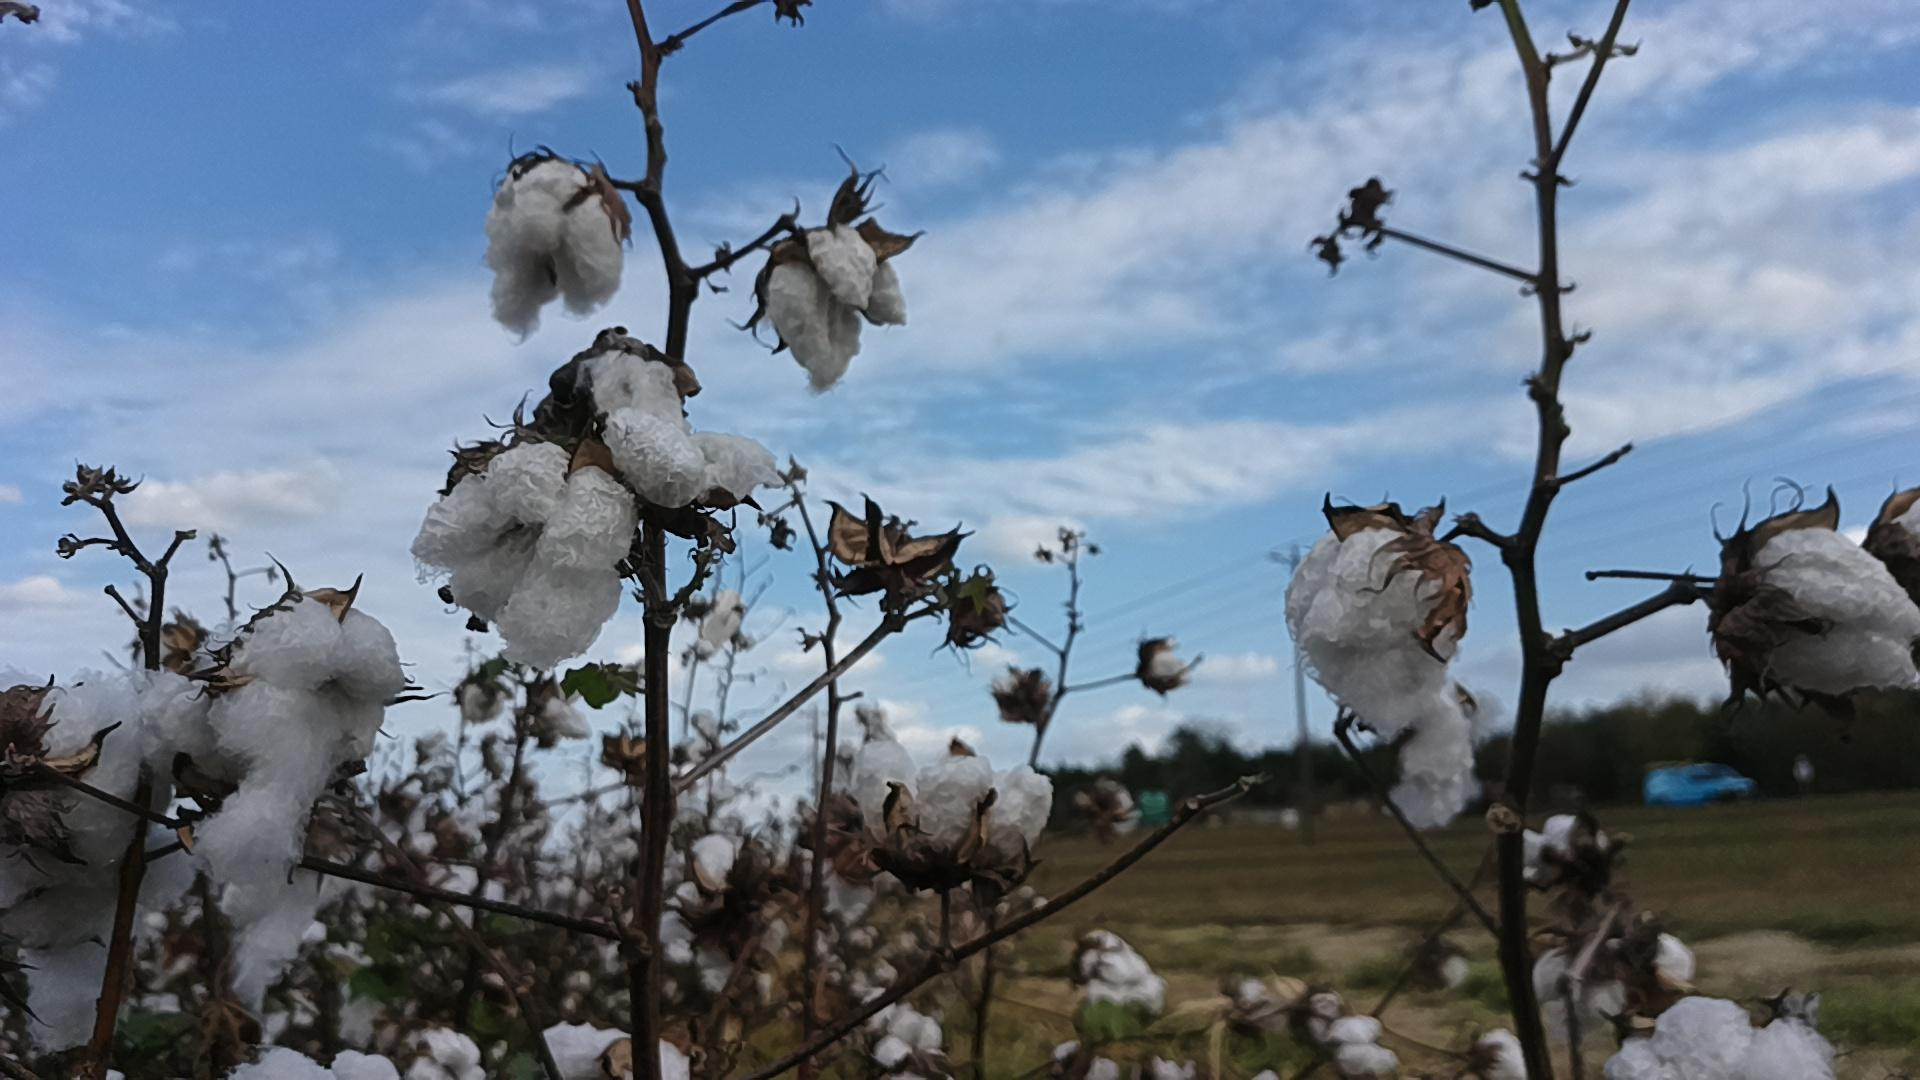cotton_ready: (193, 592, 413, 890), (1283, 525, 1474, 820), (407, 431, 638, 673), (0, 671, 148, 951), (571, 351, 782, 513), (1730, 522, 1920, 695), (855, 736, 1056, 865), (485, 162, 630, 342), (764, 220, 910, 397), (1607, 994, 1837, 1080), (220, 844, 330, 1022), (22, 938, 131, 1063), (667, 832, 750, 963), (550, 1025, 688, 1080), (231, 1051, 398, 1080)
